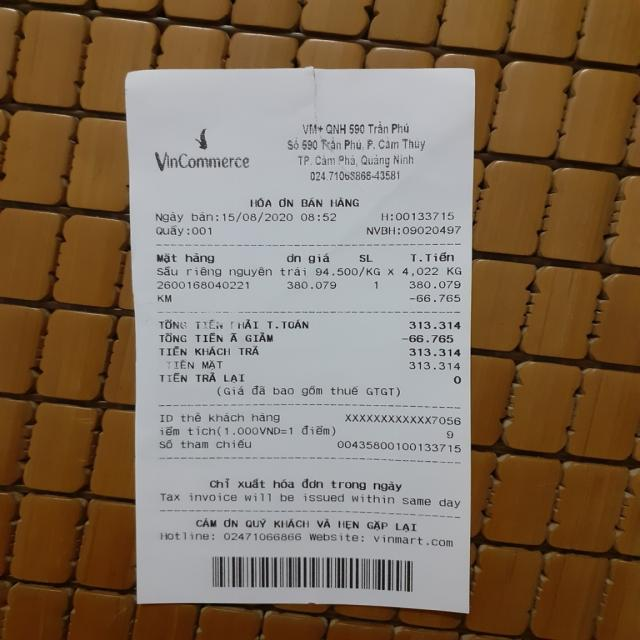Date: (220, 210, 294, 225)
Store_Name: (152, 150, 254, 173)
amount_number: (408, 318, 464, 331)
label_total: (156, 318, 312, 331)
